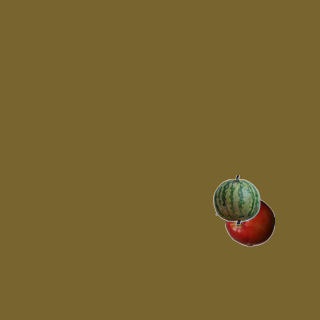Apple Braeburn: (224, 196, 274, 246)
Watermelon: (211, 174, 261, 224)
